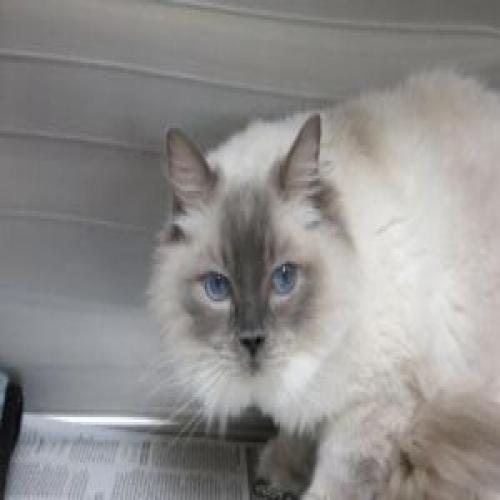ragdoll: (159, 110, 334, 393)
